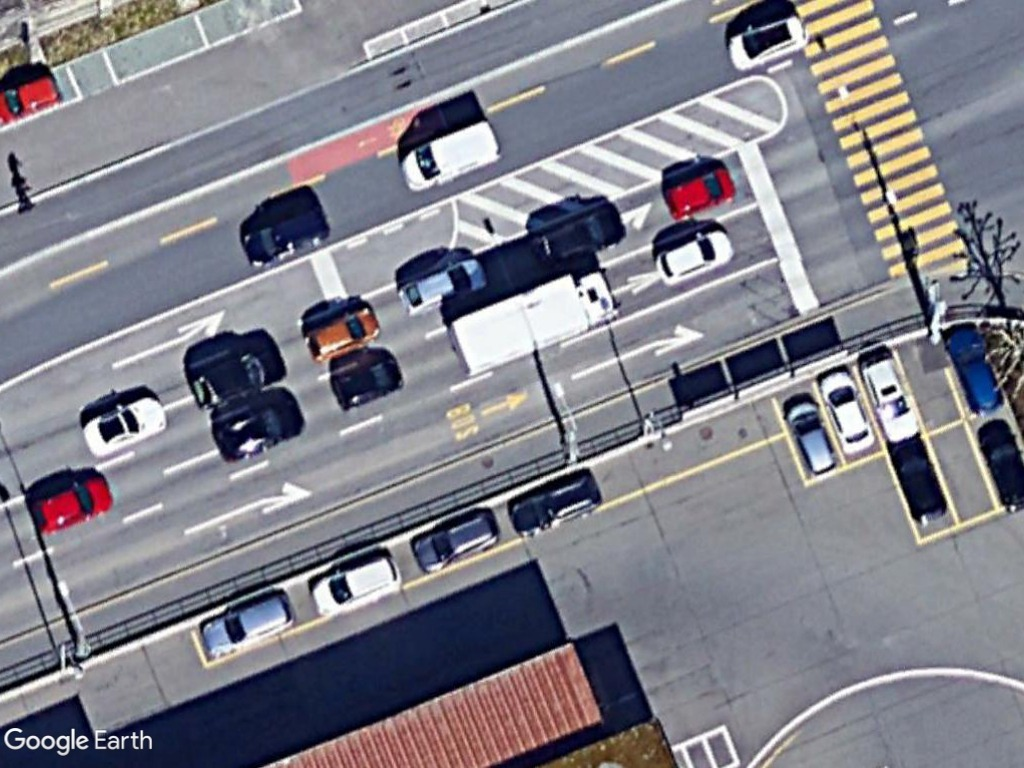car: (196, 589, 301, 662), (309, 552, 403, 619), (397, 251, 487, 319), (409, 509, 500, 575), (78, 393, 167, 460), (941, 325, 1006, 415), (242, 201, 328, 269), (857, 357, 922, 442), (32, 473, 116, 536), (814, 372, 877, 453), (651, 227, 733, 286), (725, 14, 806, 72), (301, 304, 380, 361), (785, 401, 838, 476), (662, 164, 733, 218)
truck: (447, 266, 623, 380)
van: (397, 118, 500, 195)
